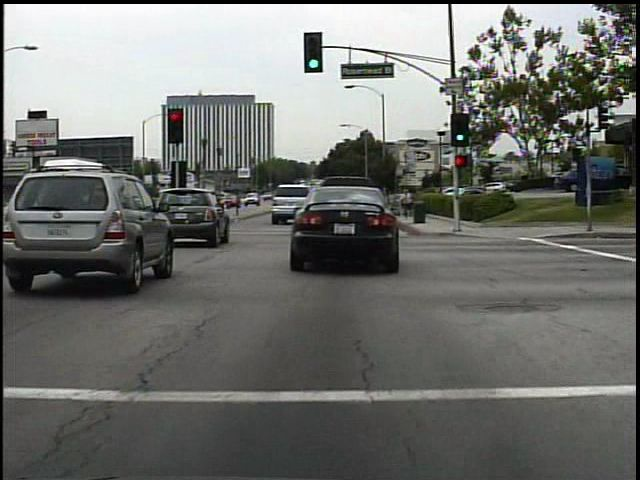person: (399, 187, 414, 222)
